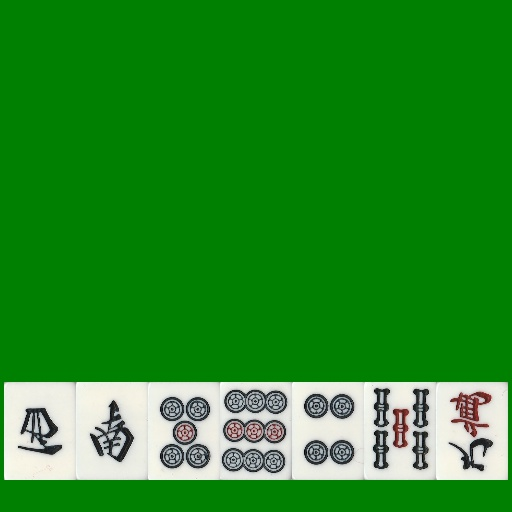4p: (292, 382, 364, 480)
5p: (148, 382, 220, 480)
5s: (364, 382, 436, 480)
9m: (436, 382, 508, 480)
9p: (220, 382, 292, 480)
south: (76, 382, 148, 480)
west: (4, 382, 76, 480)
